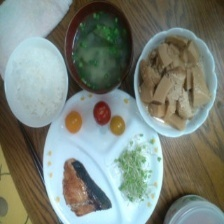rice: (2, 41, 69, 122)
